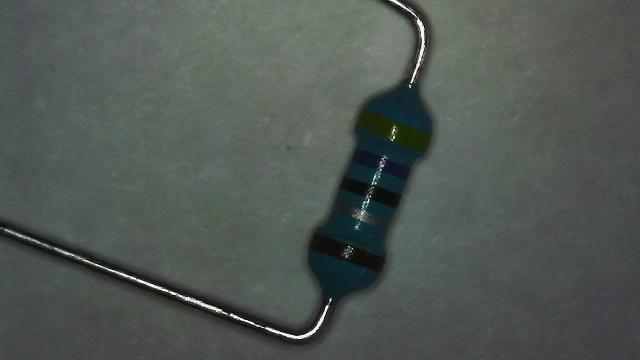black: (340, 176, 400, 206)
brown: (309, 233, 384, 270)
resistor: (298, 84, 440, 307)
silver: (334, 202, 390, 228)
violet: (352, 150, 410, 178)
yellow: (356, 108, 430, 152)
